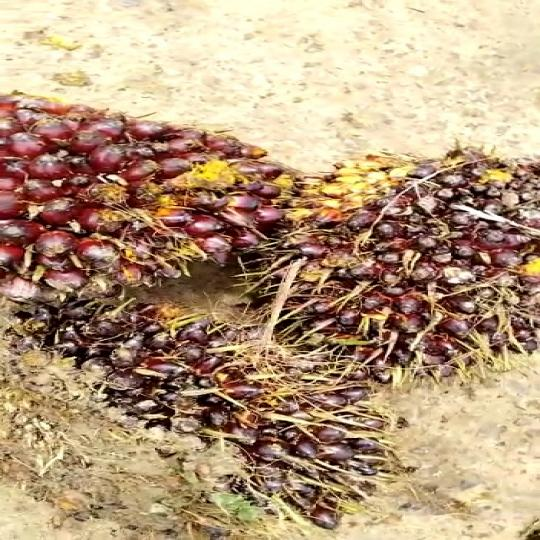kurang masak: (0, 293, 399, 540), (0, 80, 299, 284), (283, 133, 538, 370)
